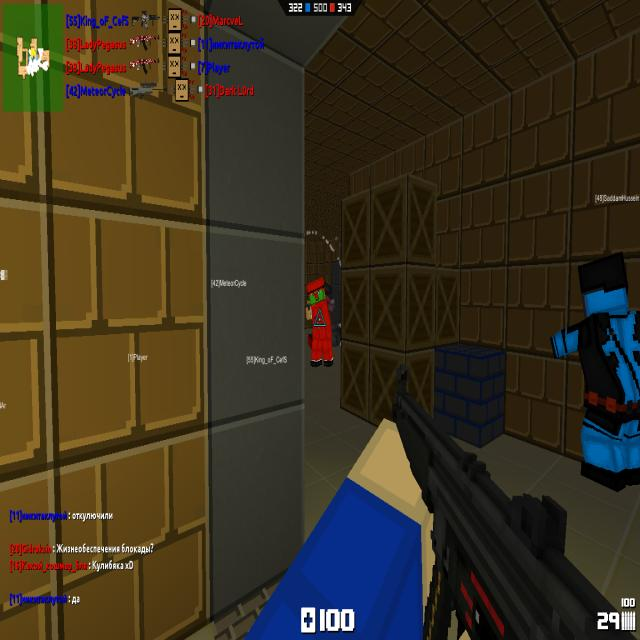enemy: (305, 276, 334, 367), (324, 281, 334, 326)
